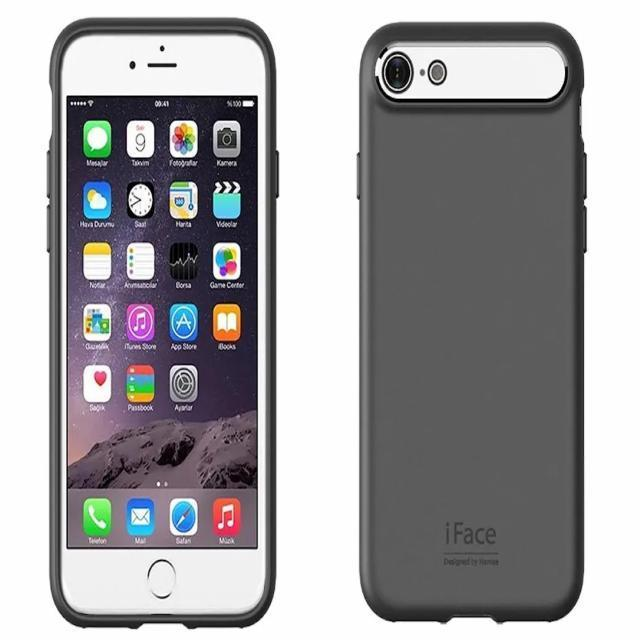phone: (354, 21, 588, 625)
